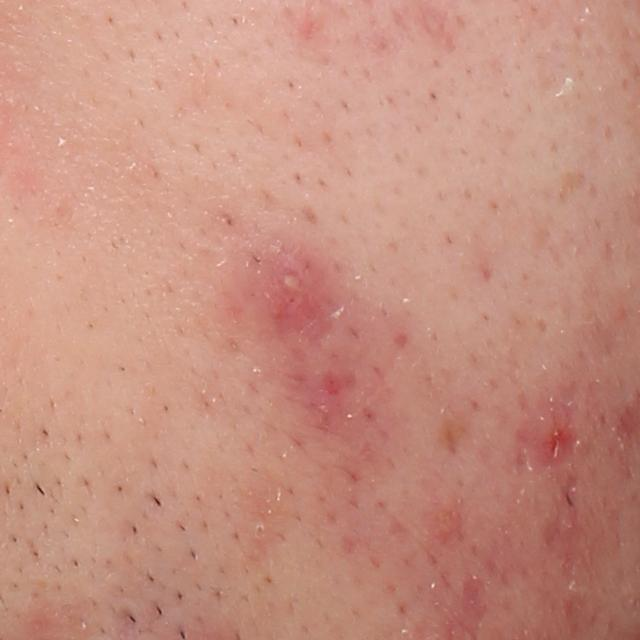papule: (539, 406, 577, 466)
